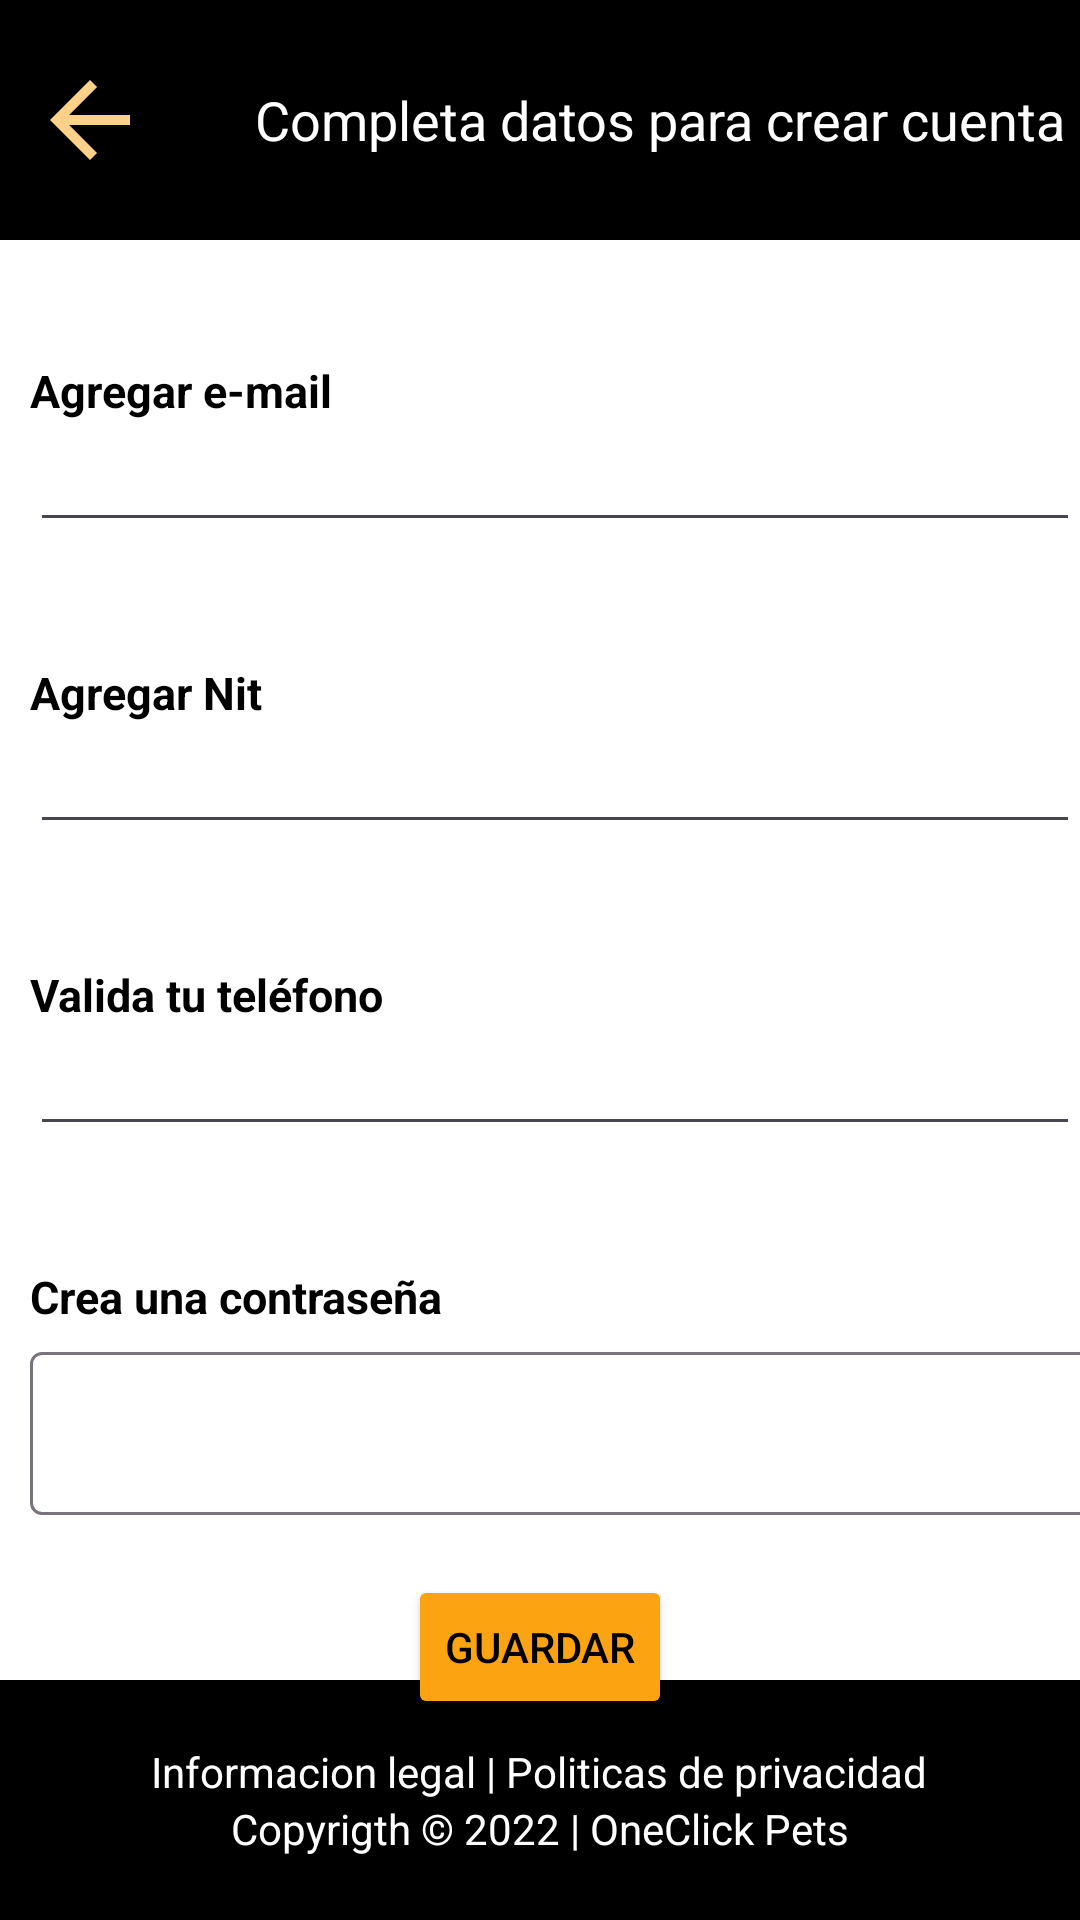

Screen size 1080*1920. Icon name, then its box in pixels as (left=x1, top=y1, right=x2, bottom=y2):
atras: (left=50, top=80, right=130, bottom=160)
